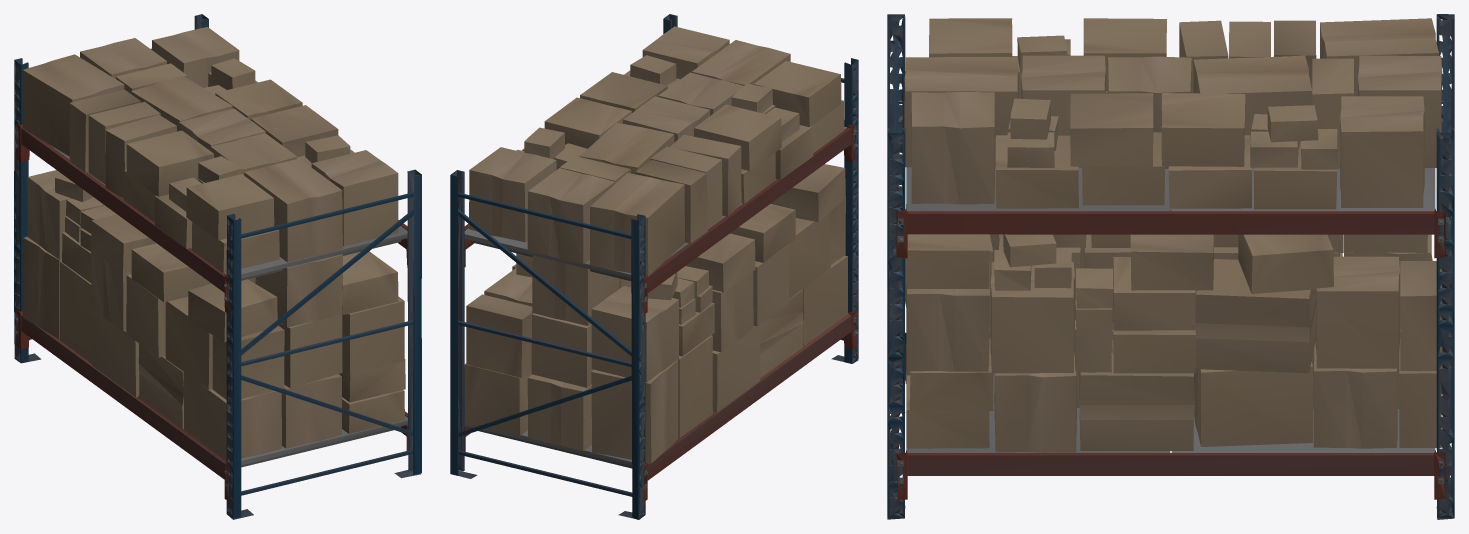
The model's file is porta-pallet.glb.
3 renders of one model, left to right at view 1: azimuth 30°, elevation 25°; view 2: azimuth 150°, elevation 25°; view 3: azimuth 270°, elevation 25°, orthographic. The views are drawn at different scales.
Parts seen in each view (by area): view 1: geometry_0; view 2: geometry_0; view 3: geometry_0.
Part boxes in pixels (bbox=[...]): geometry_0: bbox=[14, 14, 421, 519]; geometry_0: bbox=[450, 14, 858, 519]; geometry_0: bbox=[887, 14, 1454, 519].
Bounding box in the file's own units: 2.07 × 3.01 × 4.
